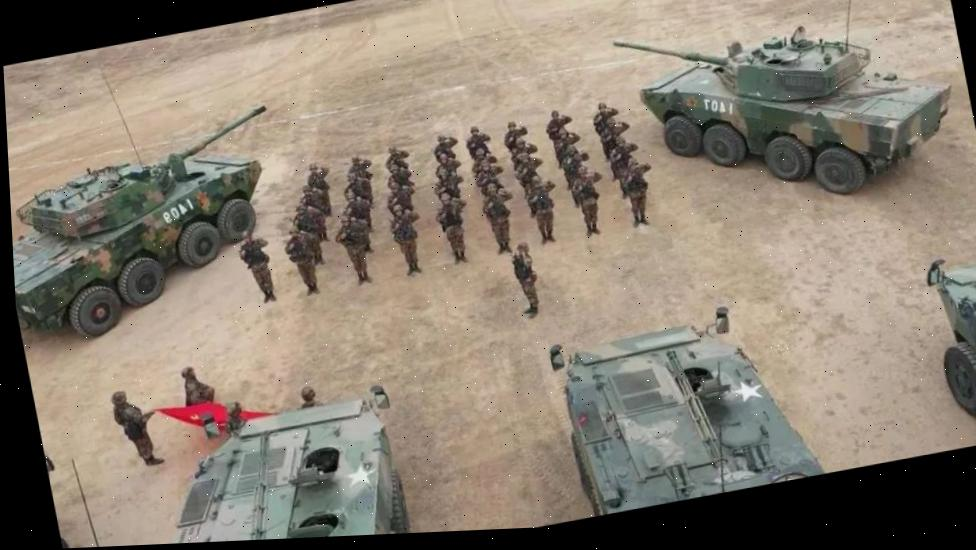armored_car: (546, 287, 847, 519), (99, 387, 414, 547), (919, 248, 976, 450)
tank: (622, 0, 971, 231), (6, 105, 298, 351)
